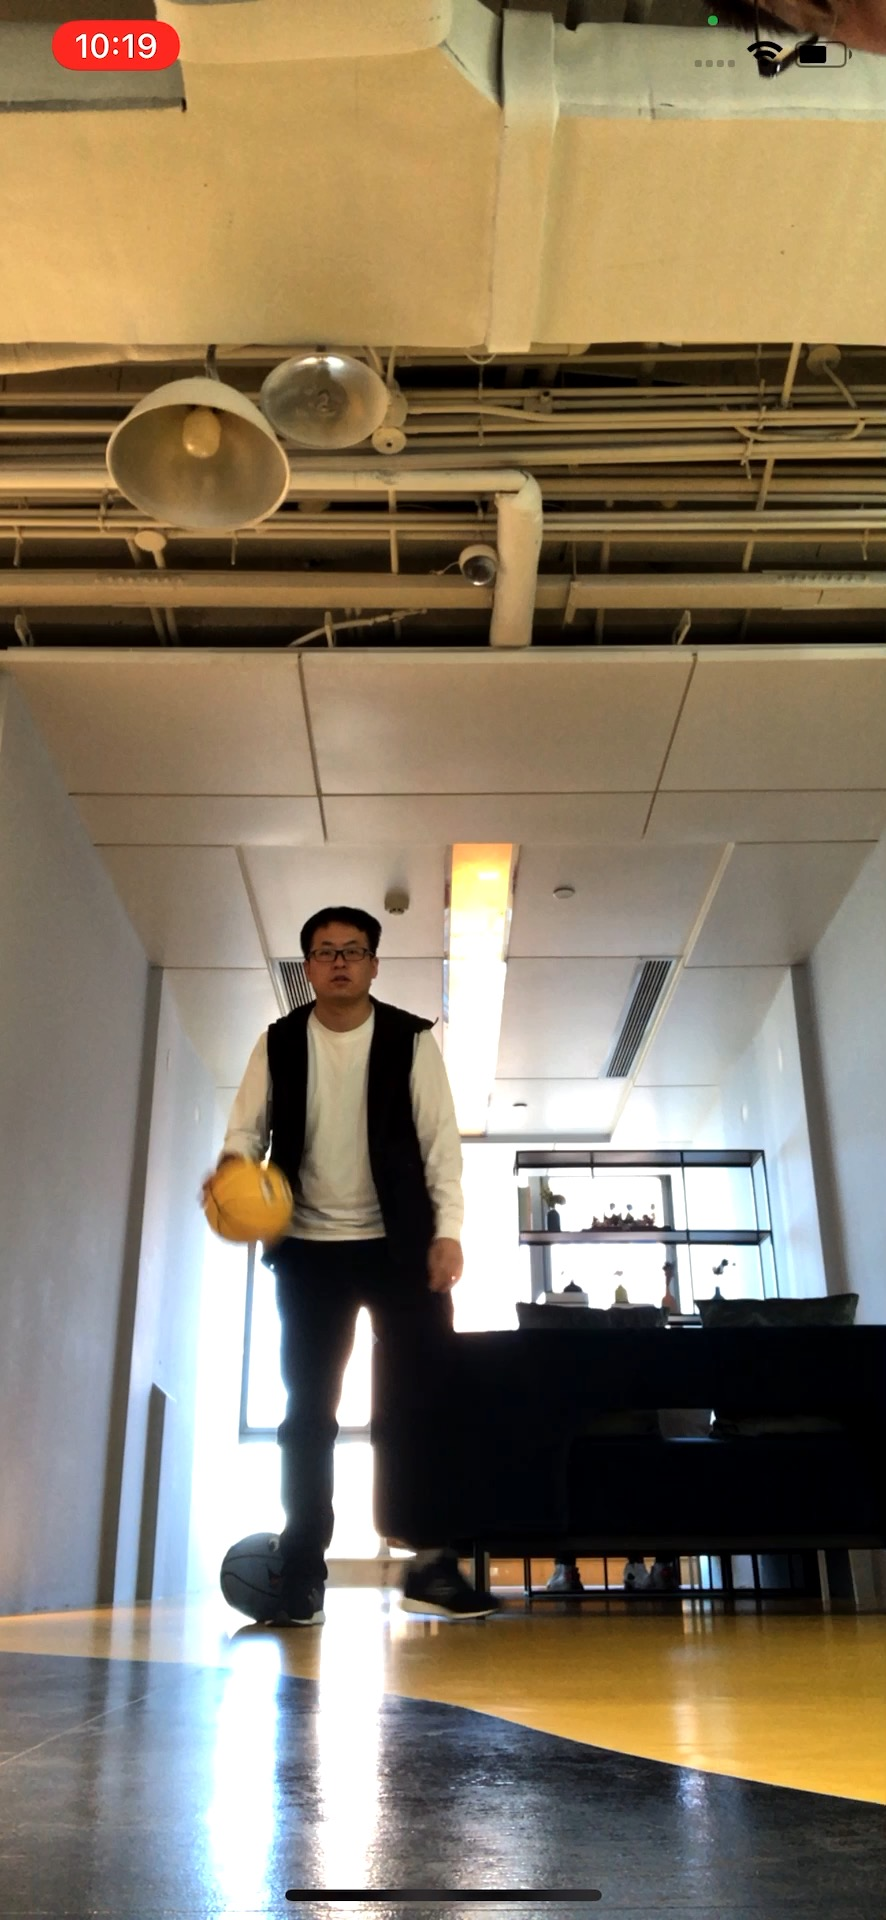ball: (206, 1160, 299, 1249), (218, 1533, 288, 1625)
